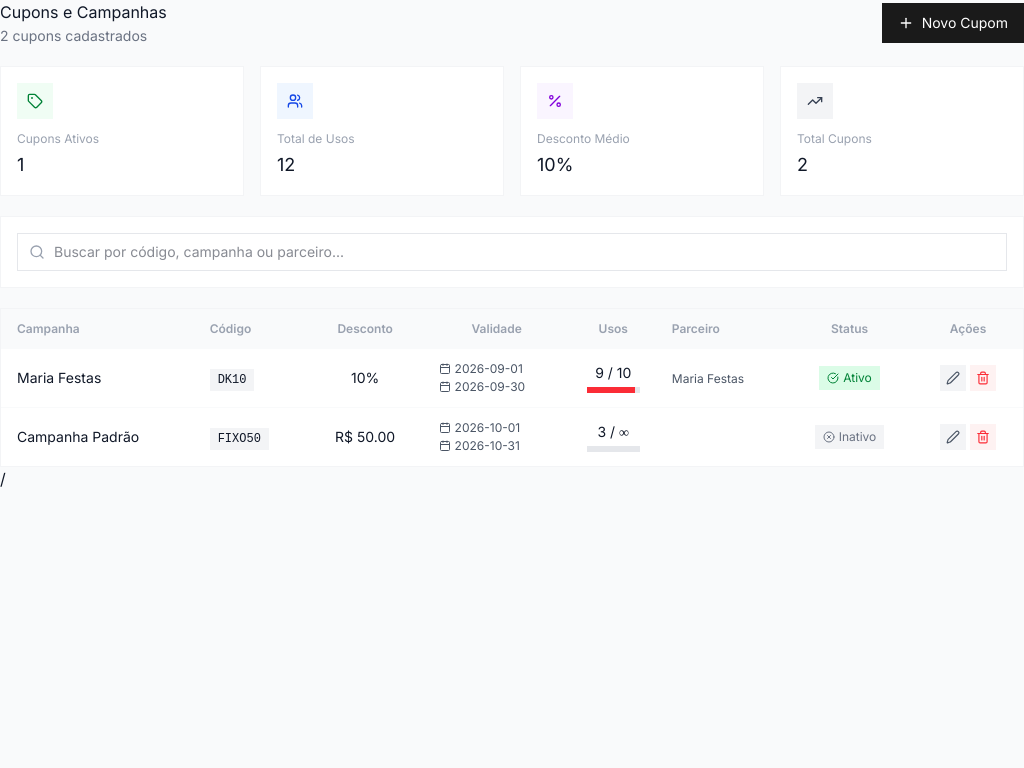
it: Coupons › mostra erro ao salvar e fecha o modal sem salvar
Expected: the heading "Cupons e Campanhas" is shown, top-left (0, 0), bottom-right (167, 26)
Step 1. Click the button named "Editar" in the row of "DK10" → (953, 378), box top-left (940, 365), bottom-right (966, 391)
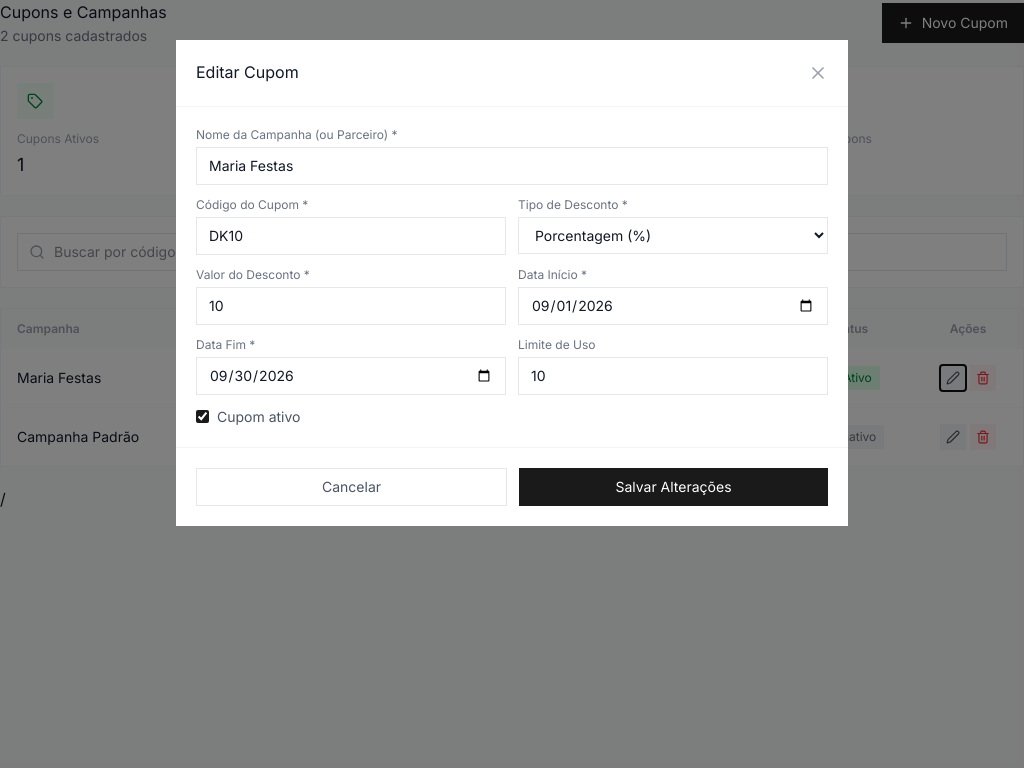
Step 2. Click the button "Salvar Alterações" → (674, 487), box top-left (519, 468), bottom-right (828, 506)
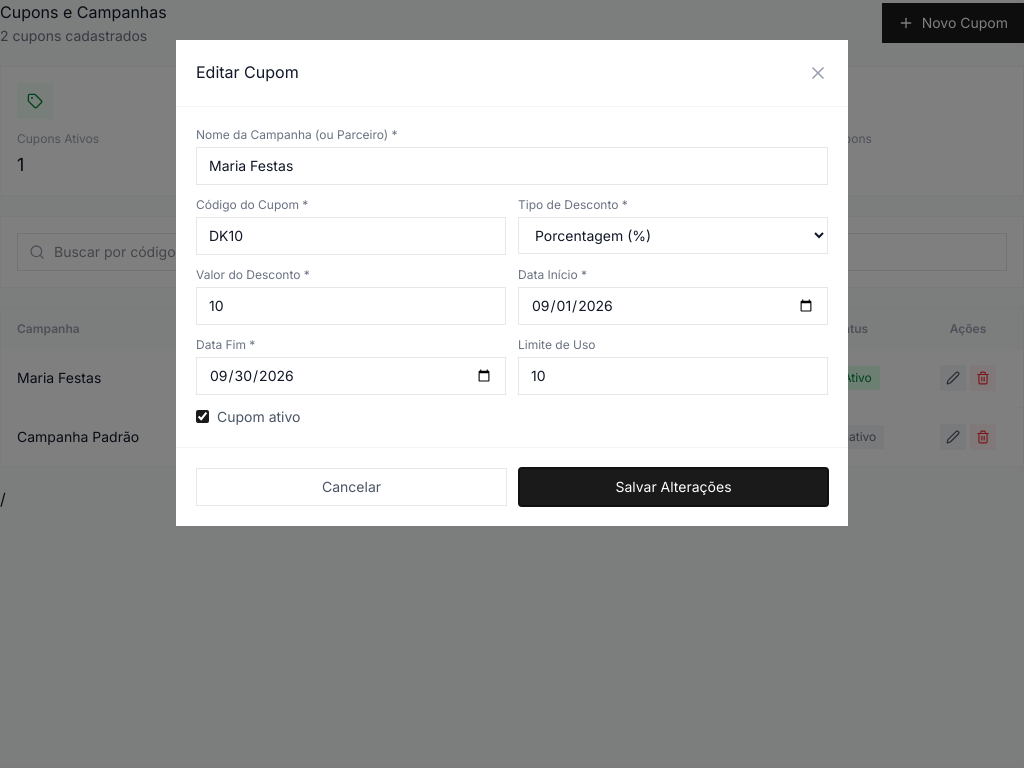
Step 3. Click the button "Cancelar" → (352, 487), box top-left (196, 468), bottom-right (507, 506)
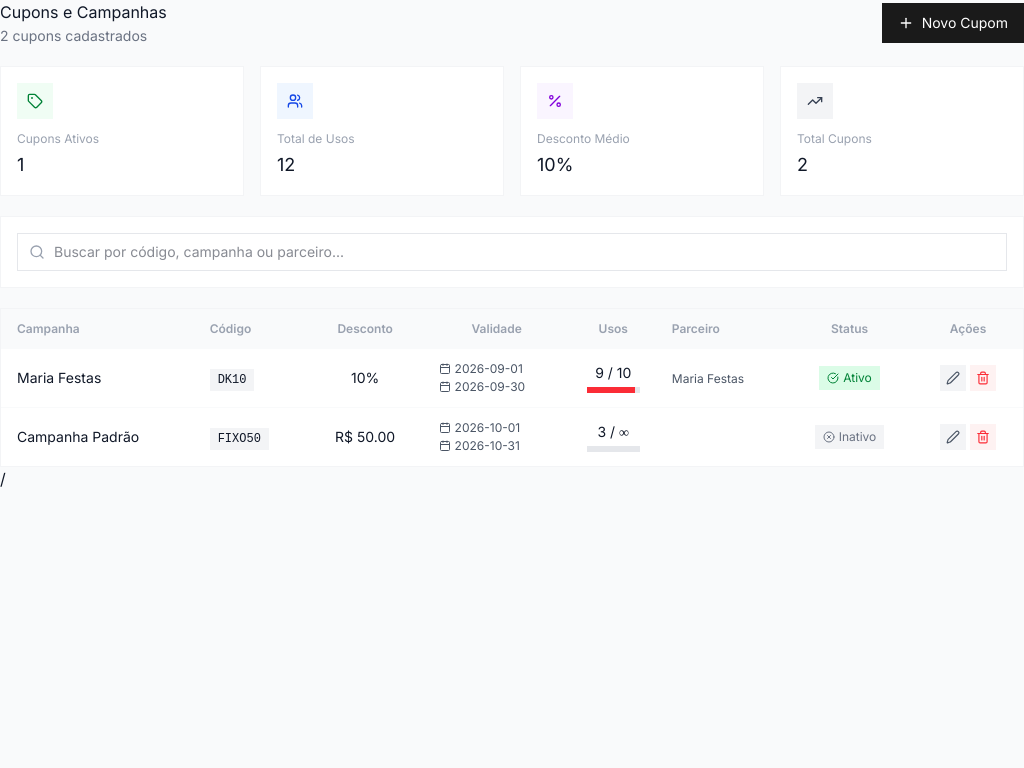
Now the button "Salvar Alterações" is gone
